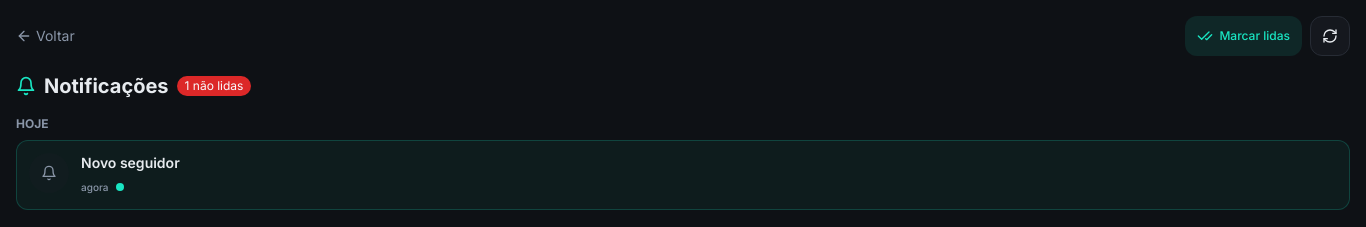
Scenario: Notificações e cosméticos móveis › mantém não lidas até ação explícita e atualiza apenas is_read
Expected: the text "Novo seguidor" is shown, [81,154,180,171]
Click the button "Marcar lidas". click: click(1244, 36)
box: [1185,16,1302,56]
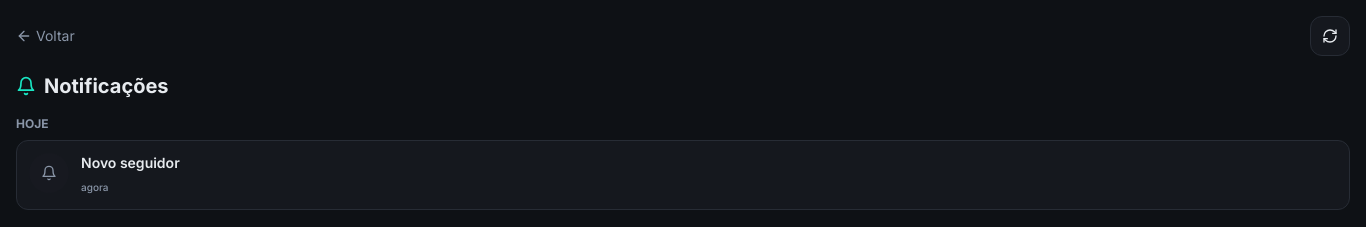
Result: the text "1 não lidas" is gone
